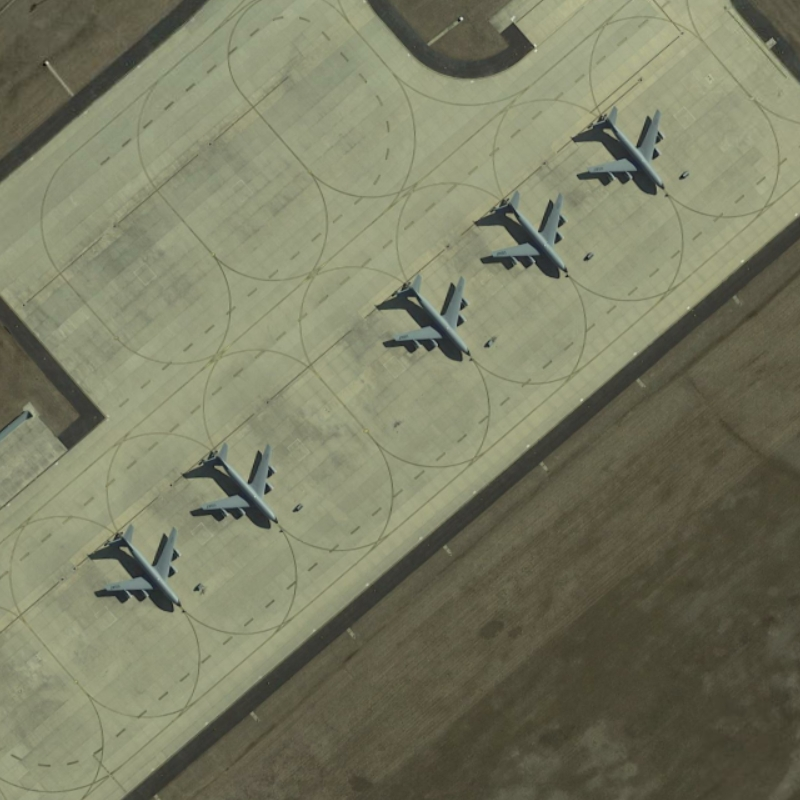A14: (181, 433, 287, 536), (376, 267, 478, 369), (90, 515, 193, 616), (478, 184, 577, 285), (574, 103, 674, 201)
